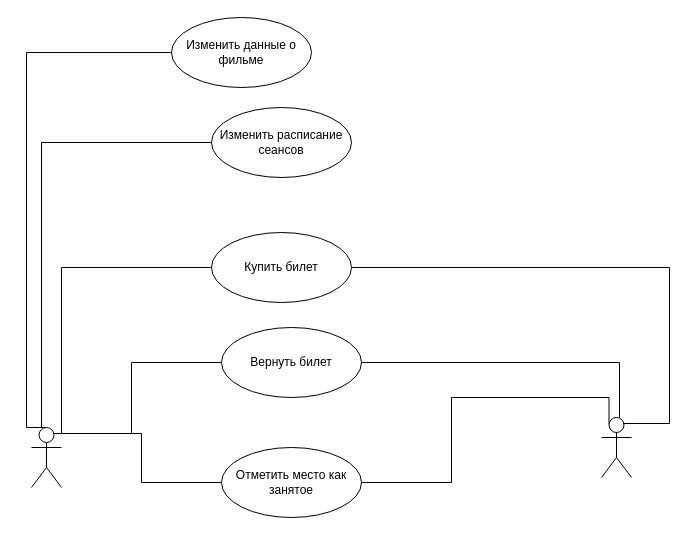
Some shapes in this 688 by 535 pixel diagram are drawn without their labels. The centre of each missing label's shape, as x and y in pixels:
"Посетитель" goes at (x=616, y=447).
"Сотрудник" goes at (x=46, y=457).
